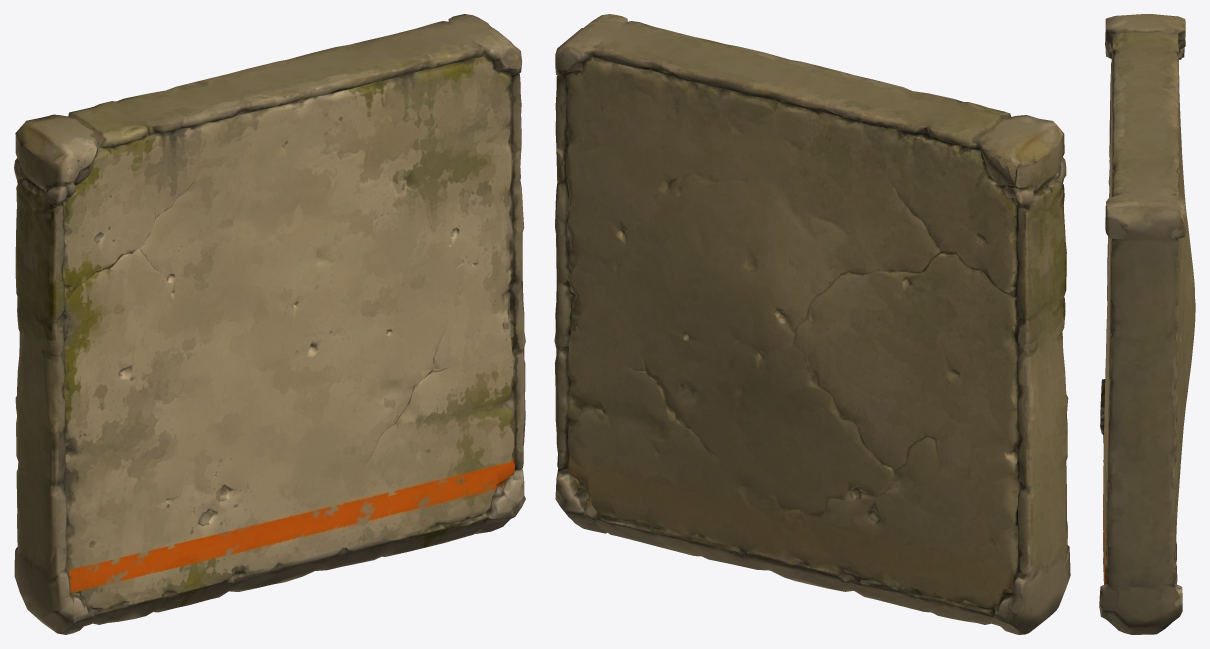
File: tripo_convert_e05f7285-794f-41ce-8d35-cf8d8e673f26.glb
3 renders of one model, left to right at view 1: azimuth 30°, elevation 25°; view 2: azimuth 150°, elevation 25°; view 3: azimuth 270°, elevation 25°, orthographic. The views are drawn at different scales.
Parts seen in each view (by area): view 1: tripo_node_e05f7285-794f-41ce-8d35-cf8d8e673f26; view 2: tripo_node_e05f7285-794f-41ce-8d35-cf8d8e673f26; view 3: tripo_node_e05f7285-794f-41ce-8d35-cf8d8e673f26.
Part boxes in pixels (x1,y1,x2,y2): tripo_node_e05f7285-794f-41ce-8d35-cf8d8e673f26: [14, 14, 525, 634]; tripo_node_e05f7285-794f-41ce-8d35-cf8d8e673f26: [554, 14, 1070, 634]; tripo_node_e05f7285-794f-41ce-8d35-cf8d8e673f26: [1099, 14, 1195, 634].
Size of the model in its own units: 1 by 0.9963 by 0.2008.
1 material, 1 textured.
